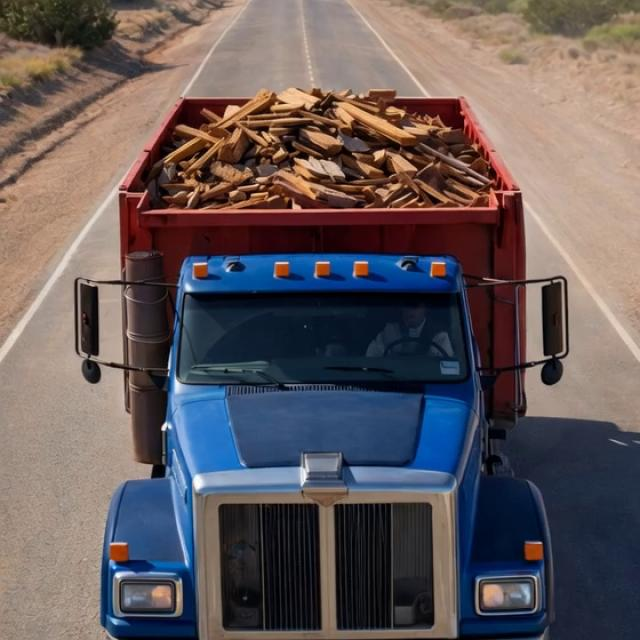trailer: (101, 78, 550, 235)
truck: (72, 60, 567, 640)
